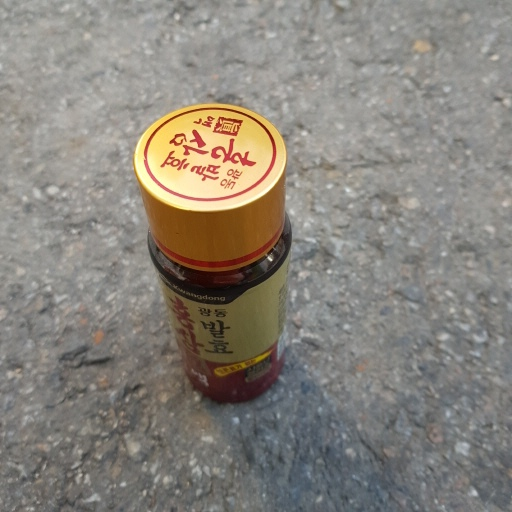Glass_3: (133, 101, 297, 398)
